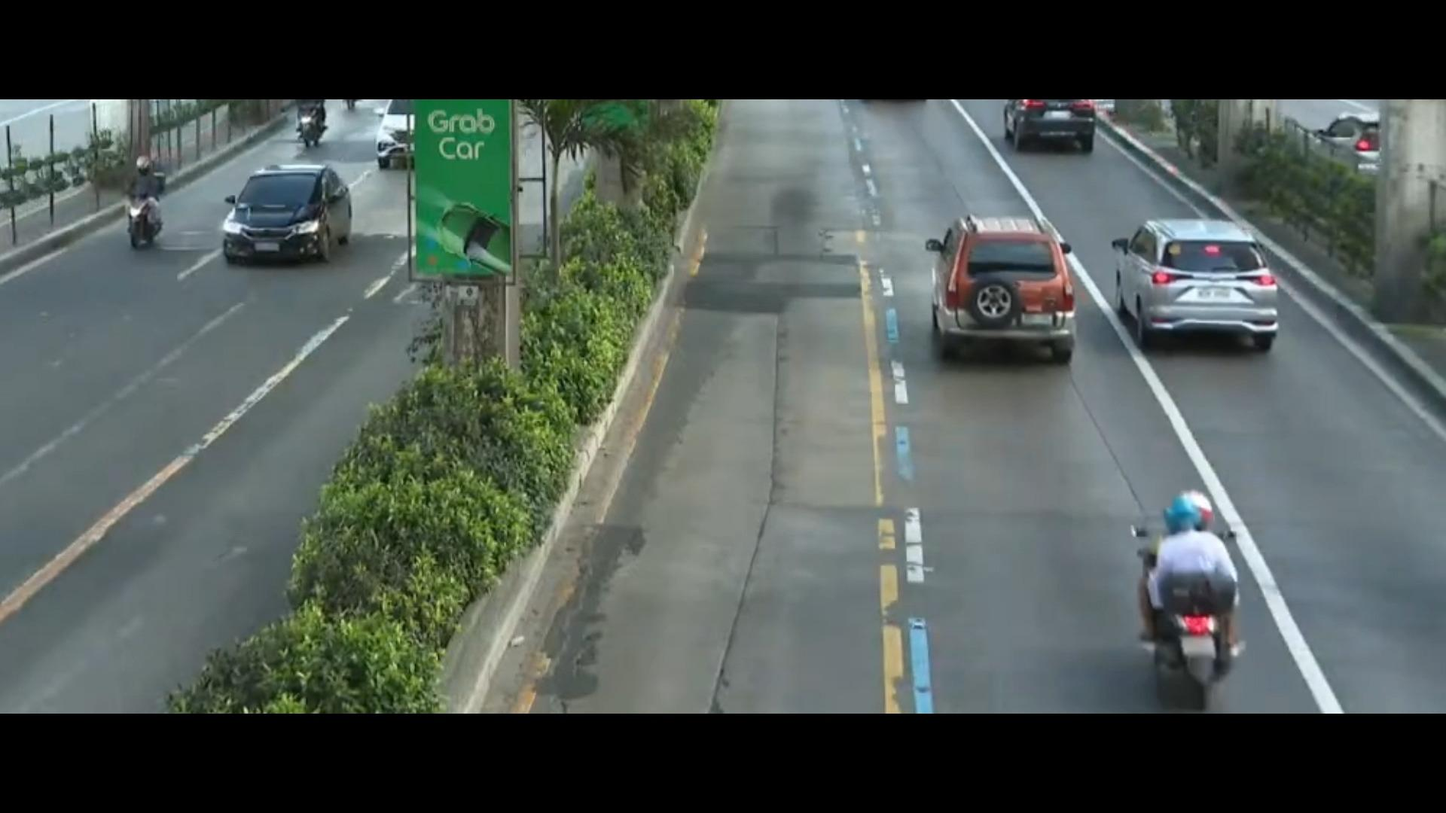Motorcycle: (1081, 488, 1292, 718), (113, 155, 177, 285), (283, 98, 341, 154)
SUV: (917, 181, 1087, 381), (1097, 202, 1300, 362)
Sedan: (213, 140, 371, 280)
